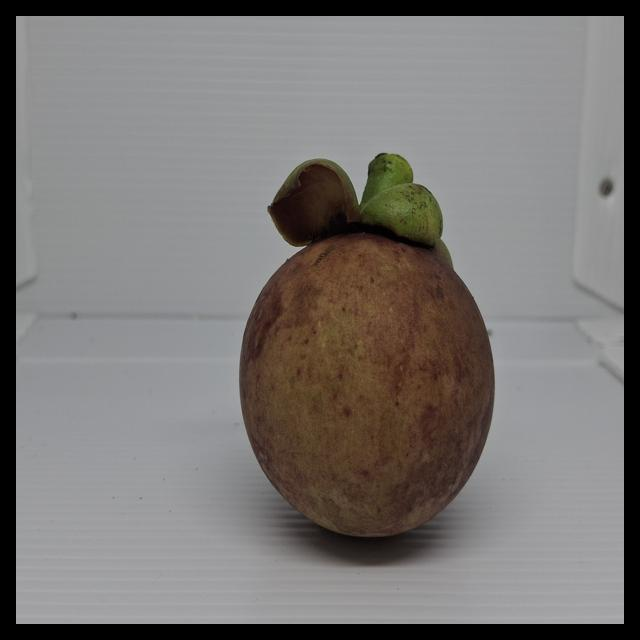mangosteen: (216, 113, 533, 577)
